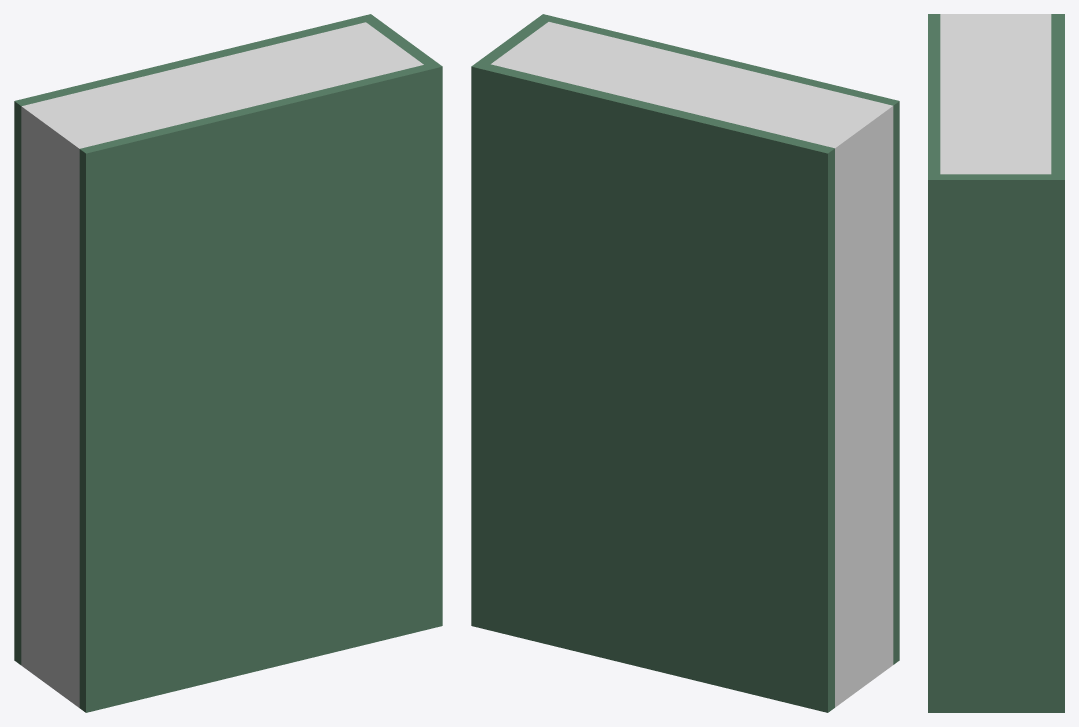
The model's file is BookGreen.fbx.
The picture shows the model from 3 angles, left to right: view 1: azimuth 30°, elevation 25°; view 2: azimuth 150°, elevation 25°; view 3: azimuth 270°, elevation 25°; orthographic projection. The views are drawn at different scales.
Parts seen in each view (by area): view 1: BookGreen; view 2: BookGreen; view 3: BookGreen.
Part boxes in pixels (x1,y1,x2,y2): BookGreen: [14, 14, 442, 712]; BookGreen: [471, 14, 899, 712]; BookGreen: [928, 14, 1064, 712].
Bounding box in the file's own units: 21.12 × 31.65 × 7.37.
